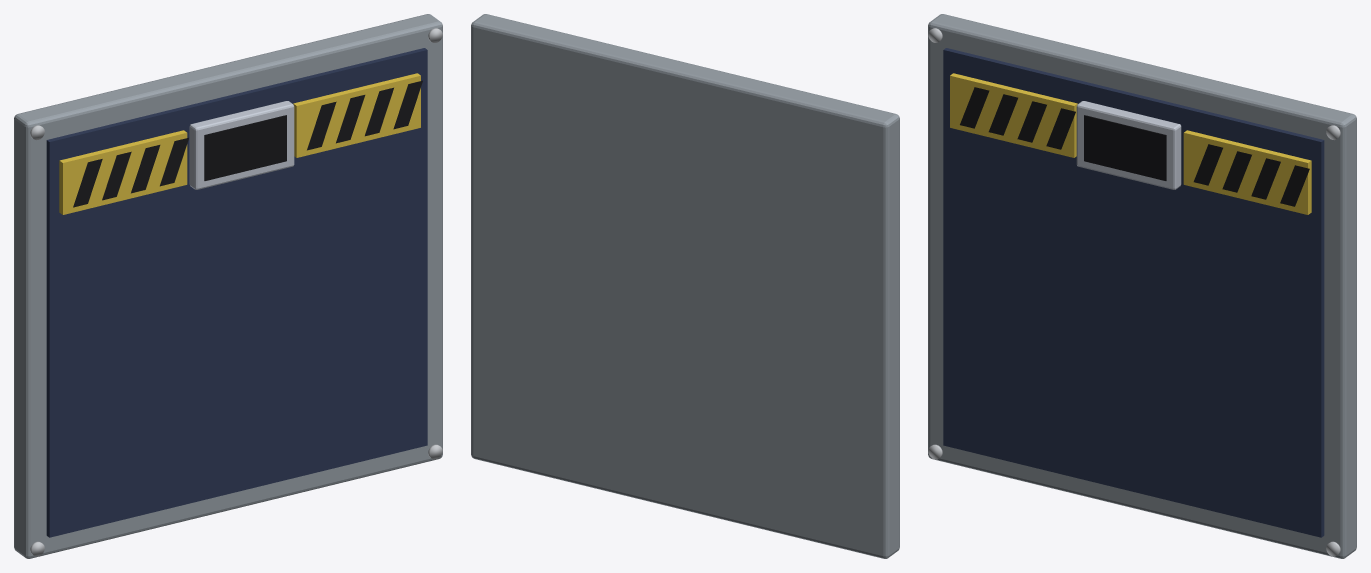
File: needy_housing.glb
The picture shows the model from 3 angles, left to right: view 1: azimuth 30°, elevation 25°; view 2: azimuth 150°, elevation 25°; view 3: azimuth 330°, elevation 25°; orthographic projection.
Parts seen in each view (by area): view 1: nd_panel, nd_frame, nd_hazard_l, nd_hazard_r, nd_timer_screen, nd_timer_frame, nd_stripe_l1, nd_stripe_l3, nd_stripe_r0, nd_stripe_r2, nd_stripe_r3, nd_stripe_l0 (+2 smaller); view 2: nd_frame; view 3: nd_panel, nd_frame, nd_hazard_r, nd_hazard_l, nd_timer_screen, nd_timer_frame, nd_stripe_r2, nd_stripe_l0, nd_stripe_l1, nd_stripe_l3, nd_stripe_r3, nd_stripe_r1 (+2 smaller).
Boxes of the visible parts, x1,y1,x2,y2 form: nd_panel: (46,48,427,537); nd_frame: (14,14,442,558); nd_hazard_l: (59,130,187,214); nd_hazard_r: (293,73,420,157); nd_timer_screen: (204,115,286,180); nd_timer_frame: (189,101,294,189); nd_stripe_l1: (102,151,131,200); nd_stripe_l3: (160,137,188,186); nd_stripe_r0: (307,101,336,150); nd_stripe_r2: (365,87,393,136); nd_stripe_r3: (393,80,422,129); nd_stripe_l0: (73,159,102,207); nd_frame: (471,14,899,558); nd_panel: (943,48,1324,537); nd_frame: (928,14,1356,558); nd_hazard_r: (1183,130,1311,214); nd_hazard_l: (950,73,1077,157); nd_timer_screen: (1084,115,1166,180); nd_timer_frame: (1076,101,1181,189); nd_stripe_r2: (1251,158,1280,199); nd_stripe_l0: (960,87,989,128); nd_stripe_l1: (988,94,1017,135); nd_stripe_l3: (1046,108,1075,149); nd_stripe_r3: (1280,165,1309,206); nd_stripe_r1: (1222,151,1251,192).
Bounding box in the file's own units: 0.84 × 0.84 × 0.086.
